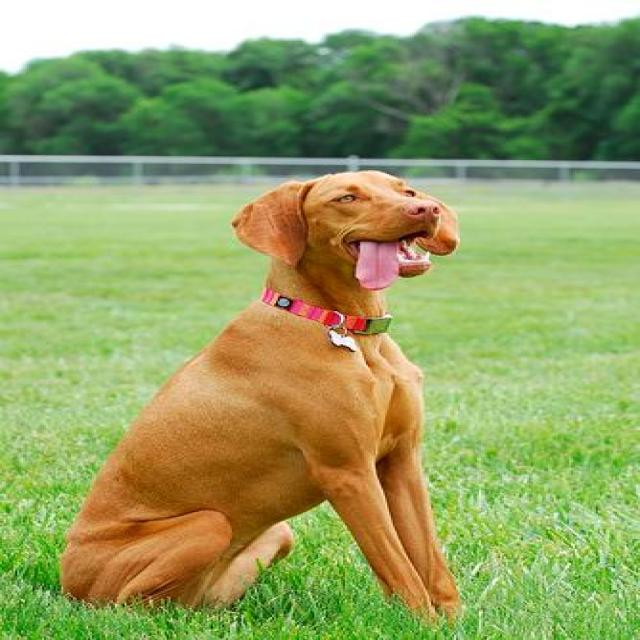vizsla: (53, 161, 470, 625)
